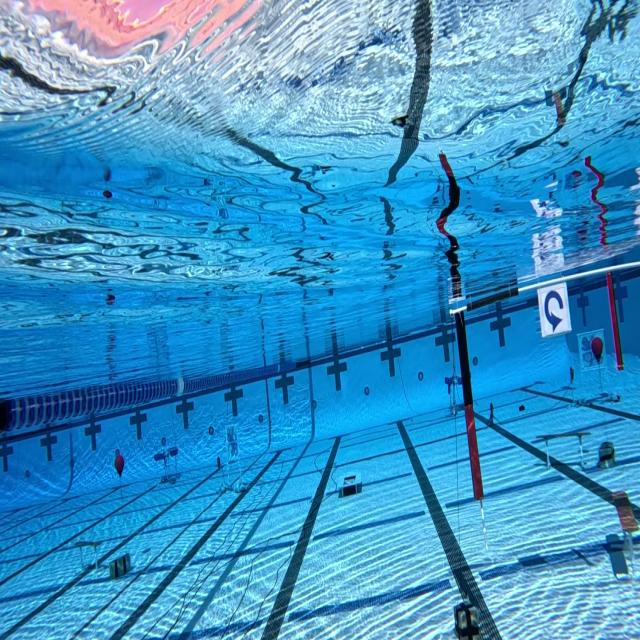blue_side: (536, 282, 573, 336)
